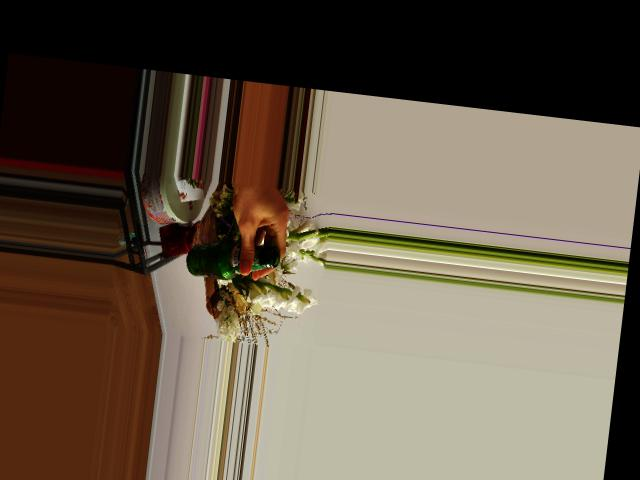beer: (183, 234, 280, 285)
